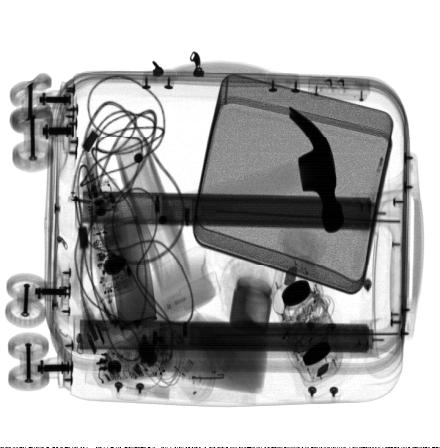Hammer: (129, 104, 346, 240)
